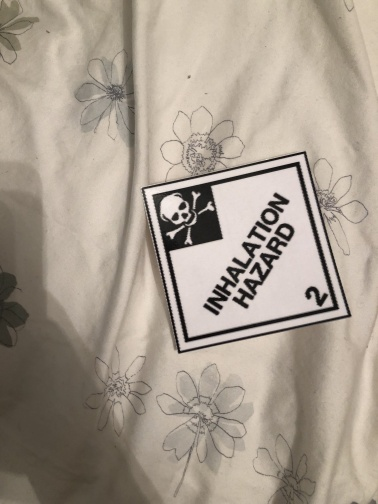InhalationHazard: (142, 151, 352, 354)
